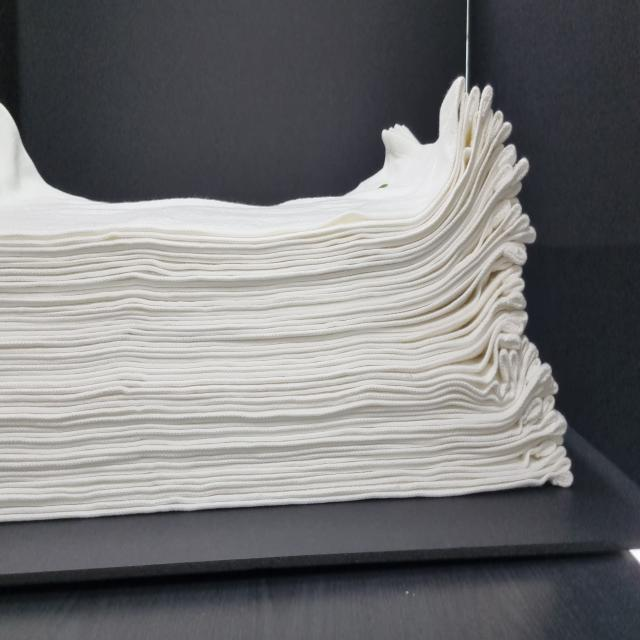50_towel_counts: (0, 65, 576, 528)
